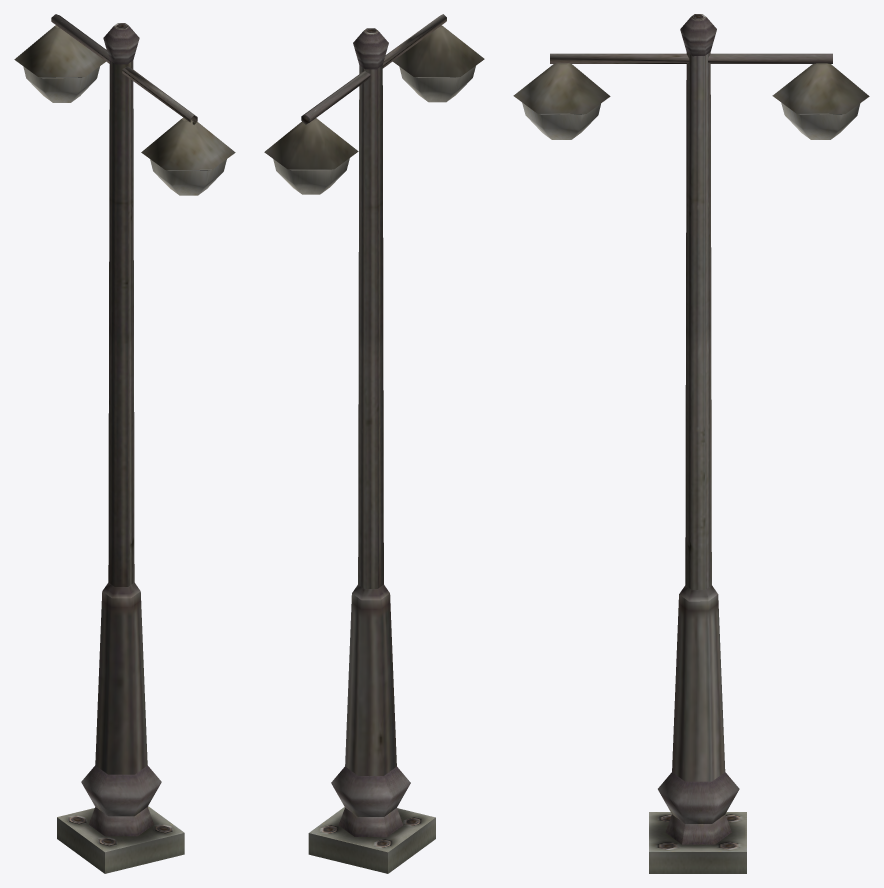
Rendered from steet light2.FBX.
3 renders of one model, left to right at view 1: azimuth 30°, elevation 25°; view 2: azimuth 150°, elevation 25°; view 3: azimuth 270°, elevation 25°, orthographic. The views are drawn at different scales.
Parts seen in each view (by area): view 1: Object004; view 2: Object004; view 3: Object004.
Part boxes in pixels (<box>): Object004: <box>14,14,235,873</box>; Object004: <box>264,14,484,873</box>; Object004: <box>513,14,869,873</box>.
Bounding box in the file's own units: 11.76 × 116 × 44.54.
Materials: 1 (1 with a texture image).
